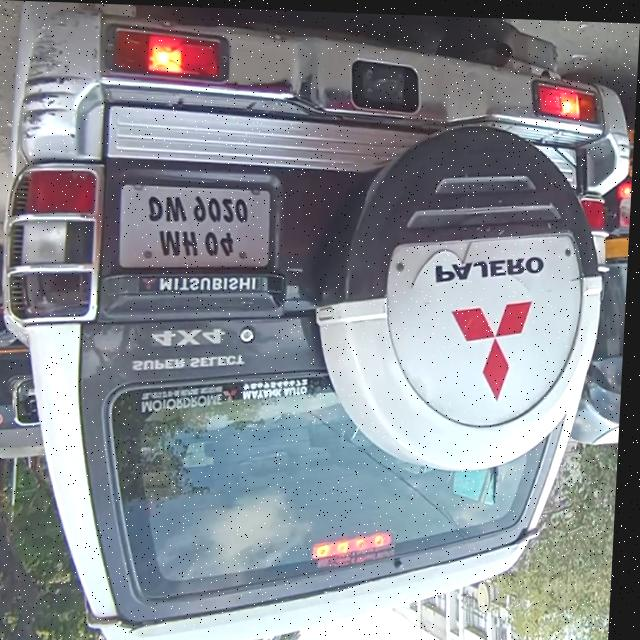plate: (121, 177, 275, 272)
